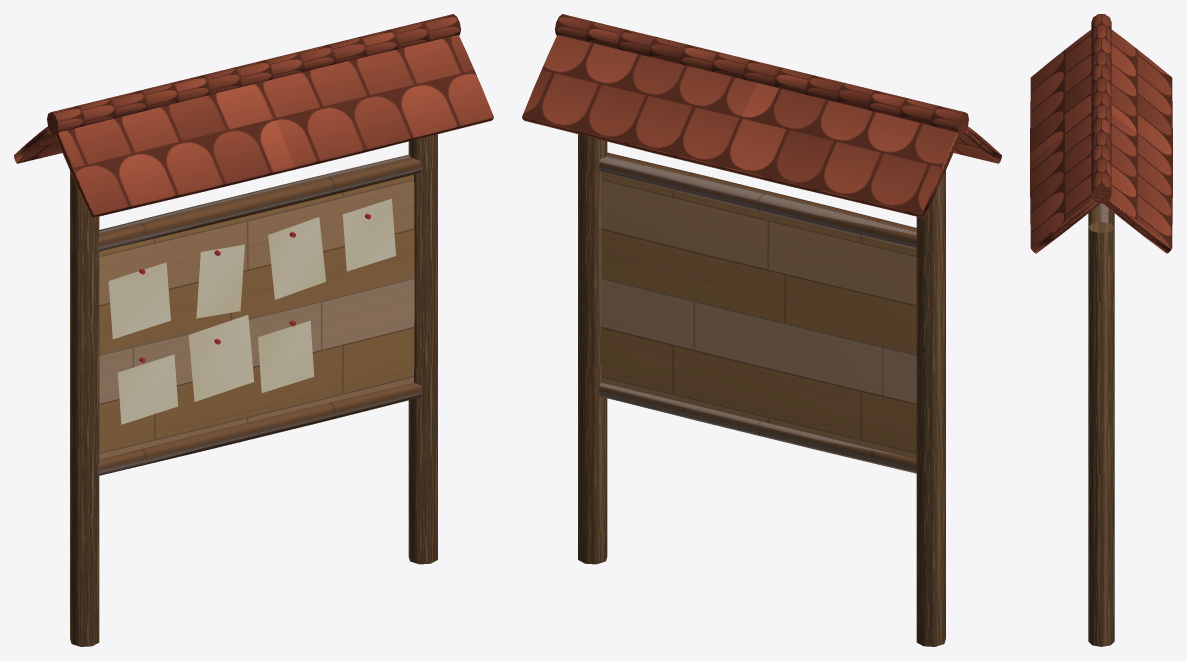
Rendered from station_guild_board.glb.
The picture shows the model from 3 angles, left to right: view 1: azimuth 30°, elevation 25°; view 2: azimuth 150°, elevation 25°; view 3: azimuth 270°, elevation 25°; orthographic projection. The views are drawn at different scales.
Parts seen in each view (by area): view 1: station_guild_board, station_guild_board_log; view 2: station_guild_board, station_guild_board_log; view 3: station_guild_board, station_guild_board_log.
Part boxes in pixels (x1,y1,x2,y2): station_guild_board: (14,14,493,475); station_guild_board_log: (70,134,437,646); station_guild_board: (522,14,1001,473); station_guild_board_log: (578,134,945,646); station_guild_board: (1030,14,1172,253); station_guild_board_log: (1088,209,1114,646).
Size of the model in its own units: 2.14 by 2.72 by 0.7506.
Materials: 6 (4 with a texture image).
